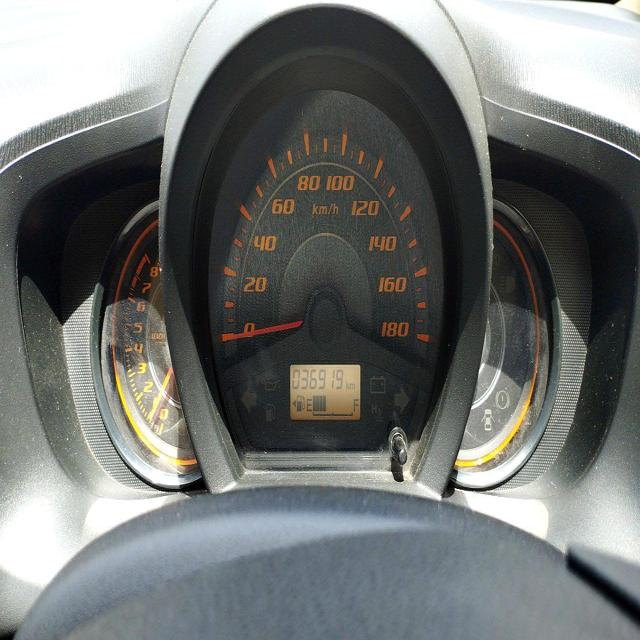odometer: (289, 365, 344, 392)
